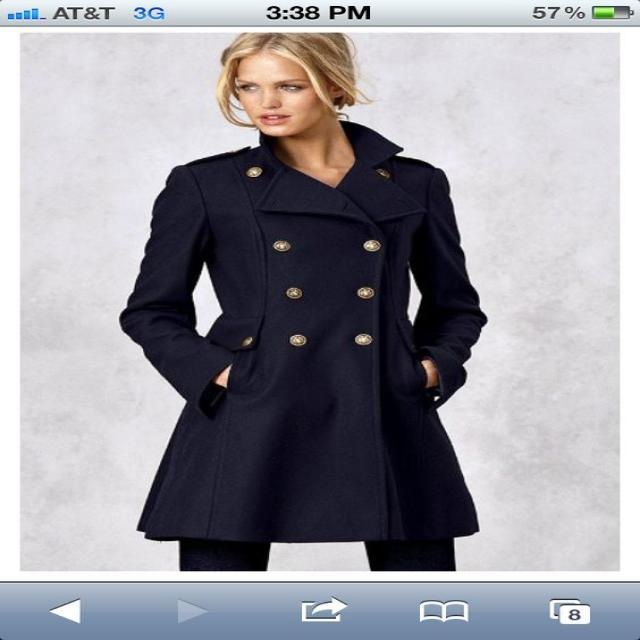coat: (113, 114, 489, 546)
